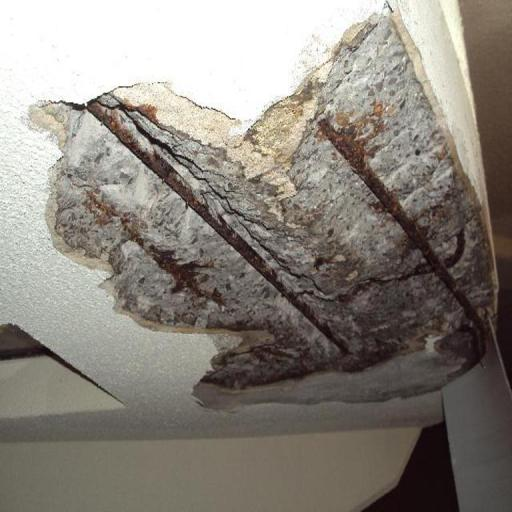spalling: (23, 7, 495, 411)
